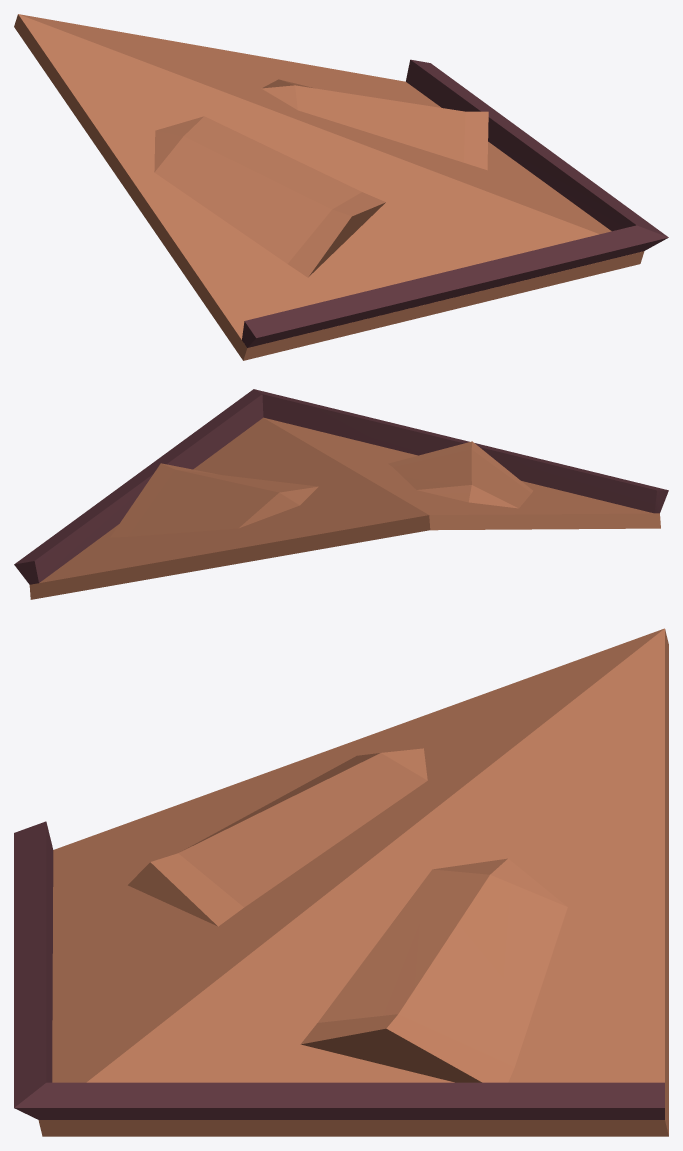
The model's file is SM_Roof_Out_Edge_Small_1m_Rim_Empire.fbx.
3 views of the same model, one above another, from view 1: azimuth 30°, elevation 25°; view 2: azimuth 150°, elevation 25°; view 3: azimuth 270°, elevation 25° (orthographic). The views are drawn at different scales.
Parts seen in each view (by area): view 1: SM_Roof_Out_Edge_Small_1m_Rim_Empire; view 2: SM_Roof_Out_Edge_Small_1m_Rim_Empire; view 3: SM_Roof_Out_Edge_Small_1m_Rim_Empire.
Part boxes in pixels (x1,y1,x2,y2): SM_Roof_Out_Edge_Small_1m_Rim_Empire: (14, 14, 668, 360); SM_Roof_Out_Edge_Small_1m_Rim_Empire: (14, 389, 668, 599); SM_Roof_Out_Edge_Small_1m_Rim_Empire: (14, 628, 668, 1136).
Bounding box in the file's own units: 1.57 × 0.6484 × 1.57.
